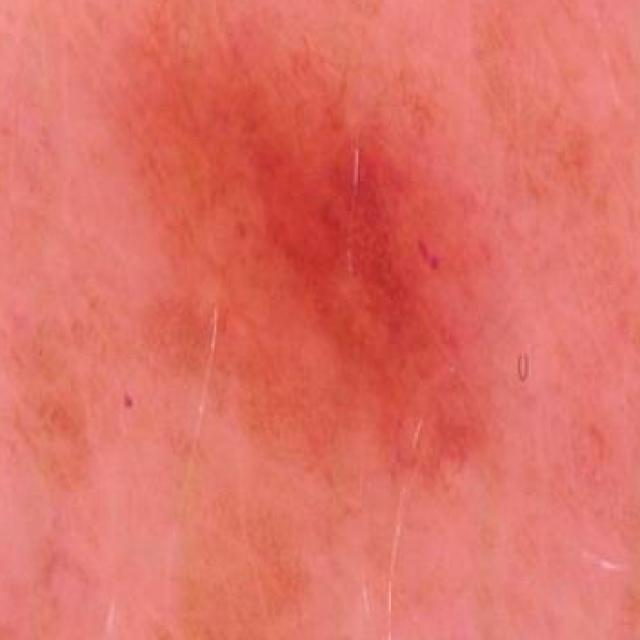NV: (115, 0, 527, 531)
